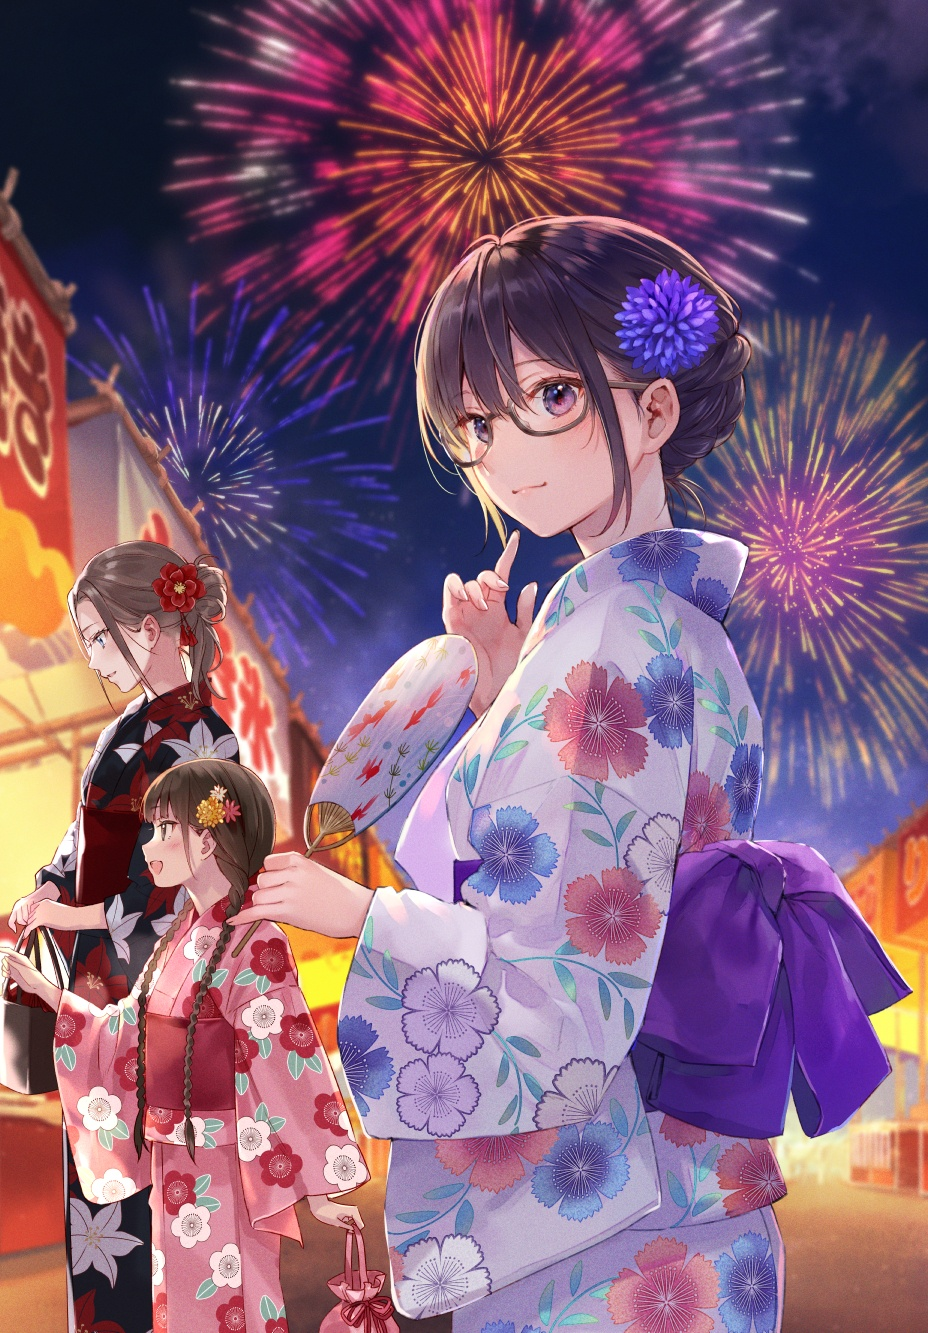纸片人正脸: (416, 219, 695, 553)
